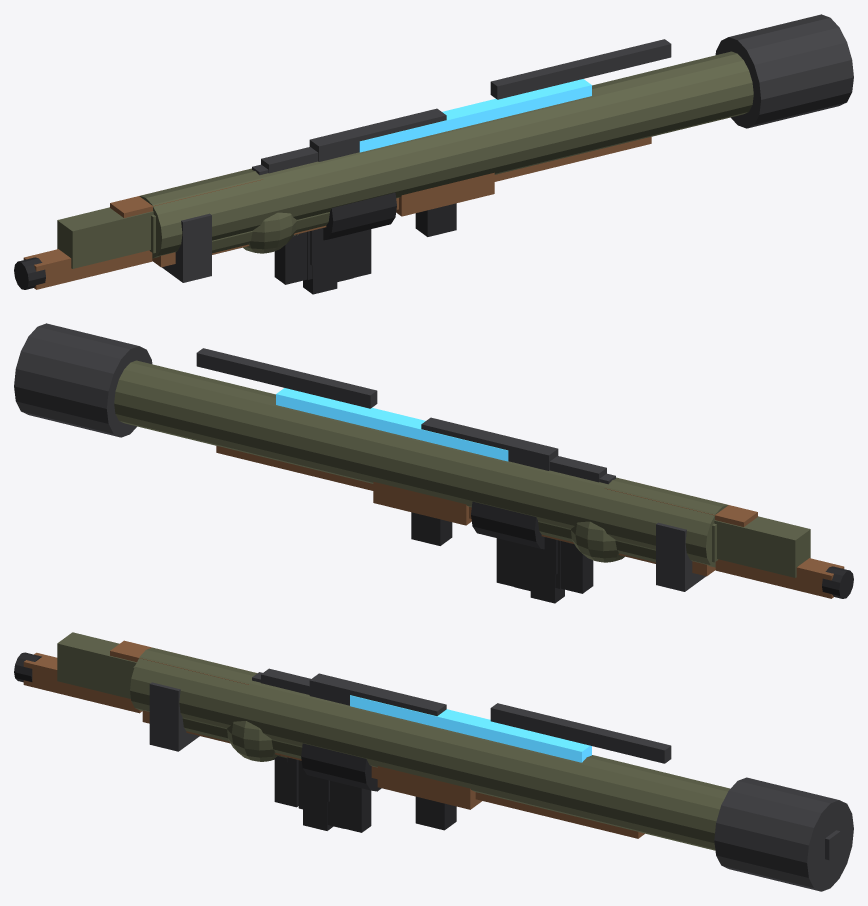
The model's file is Wpn_All.fbx.
The picture shows the model from 3 angles, top to bottom: view 1: azimuth 30°, elevation 25°; view 2: azimuth 150°, elevation 25°; view 3: azimuth 330°, elevation 25°; orthographic projection.
Parts seen in each view (by area): view 1: SM_Wpn_RPG, SM_Wpn_Sniper, SM_Wpn_Bat, SM_Proj_Rocket, SM_Wpn_GL, SM_Wpn_Shotgun, SM_Wpn_Grenade, SM_Wpn_AutoShotgun, SM_Wpn_SMG, SM_Wpn_Rifle, SM_Wpn_DMR; view 2: SM_Wpn_RPG, SM_Wpn_Sniper, SM_Wpn_Bat, SM_Proj_Rocket, SM_Wpn_GL, SM_Wpn_Shotgun, SM_Wpn_Grenade, SM_Wpn_AutoShotgun, SM_Wpn_SMG, SM_Wpn_Rifle, SM_Wpn_DMR; view 3: SM_Wpn_RPG, SM_Wpn_Sniper, SM_Wpn_Bat, SM_Proj_Rocket, SM_Wpn_GL, SM_Wpn_Shotgun, SM_Wpn_Grenade, SM_Wpn_AutoShotgun, SM_Wpn_SMG, SM_Wpn_Rifle, SM_Wpn_DMR.
Boxes of the visible parts, x1,y1,x2,y2 form: SM_Wpn_RPG: (139, 14, 853, 265); SM_Wpn_Sniper: (57, 79, 591, 277); SM_Wpn_Bat: (14, 172, 494, 289); SM_Proj_Rocket: (162, 212, 329, 282); SM_Wpn_GL: (298, 192, 396, 240); SM_Wpn_Shotgun: (110, 136, 651, 217); SM_Wpn_Grenade: (243, 164, 296, 253); SM_Wpn_AutoShotgun: (274, 232, 307, 284); SM_Wpn_SMG: (261, 147, 347, 265); SM_Wpn_Rifle: (303, 259, 337, 294); SM_Wpn_DMR: (337, 233, 353, 281); SM_Wpn_RPG: (14, 323, 728, 574); SM_Wpn_Sniper: (276, 388, 810, 586); SM_Wpn_Bat: (373, 481, 853, 598); SM_Proj_Rocket: (538, 521, 705, 591); SM_Wpn_GL: (471, 501, 569, 549); SM_Wpn_Shotgun: (216, 445, 757, 526); SM_Wpn_Grenade: (571, 473, 624, 562); SM_Wpn_AutoShotgun: (560, 541, 593, 593); SM_Wpn_SMG: (549, 456, 606, 550); SM_Wpn_Rifle: (530, 568, 564, 603); SM_Wpn_DMR: (514, 542, 530, 590); SM_Wpn_RPG: (130, 647, 853, 891); SM_Wpn_Sniper: (57, 632, 840, 859); SM_Wpn_Bat: (14, 652, 481, 809); SM_Proj_Rocket: (149, 682, 302, 758); SM_Wpn_GL: (279, 743, 381, 791); SM_Wpn_Shotgun: (110, 640, 644, 838); SM_Wpn_Grenade: (227, 672, 278, 761); SM_Wpn_AutoShotgun: (274, 758, 298, 807); SM_Wpn_SMG: (261, 668, 310, 762); SM_Wpn_Rifle: (303, 796, 333, 830); SM_Wpn_DMR: (327, 780, 344, 828).
Bounding box in the file's own units: 1400 × 14025 × 2660.
